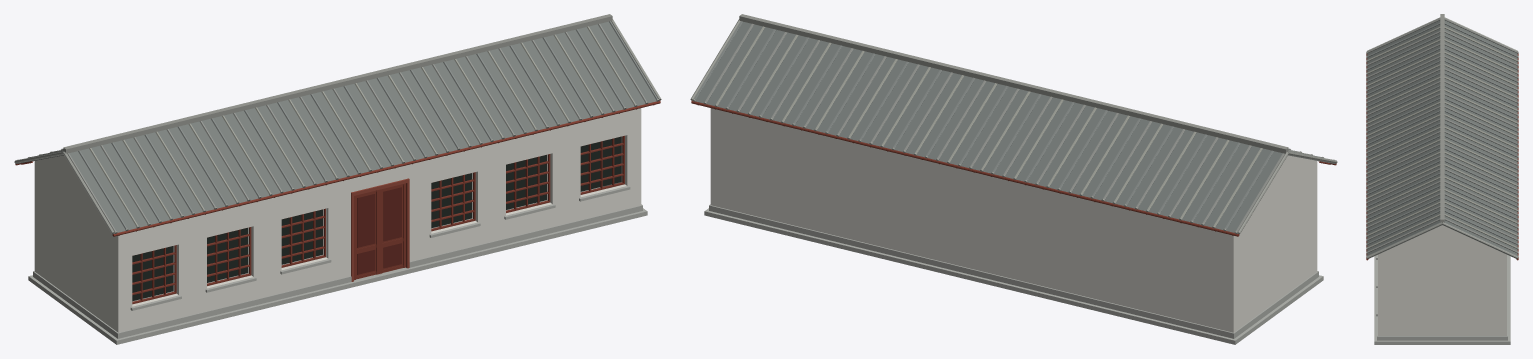
The model's file is chongming-east-wing-lod.glb.
3 views of the same model, side by side, from view 1: azimuth 30°, elevation 25°; view 2: azimuth 150°, elevation 25°; view 3: azimuth 270°, elevation 25° (orthographic). The views are drawn at different scales.
Bounding box in the file's own units: 27.69 × 8 × 8.64.
